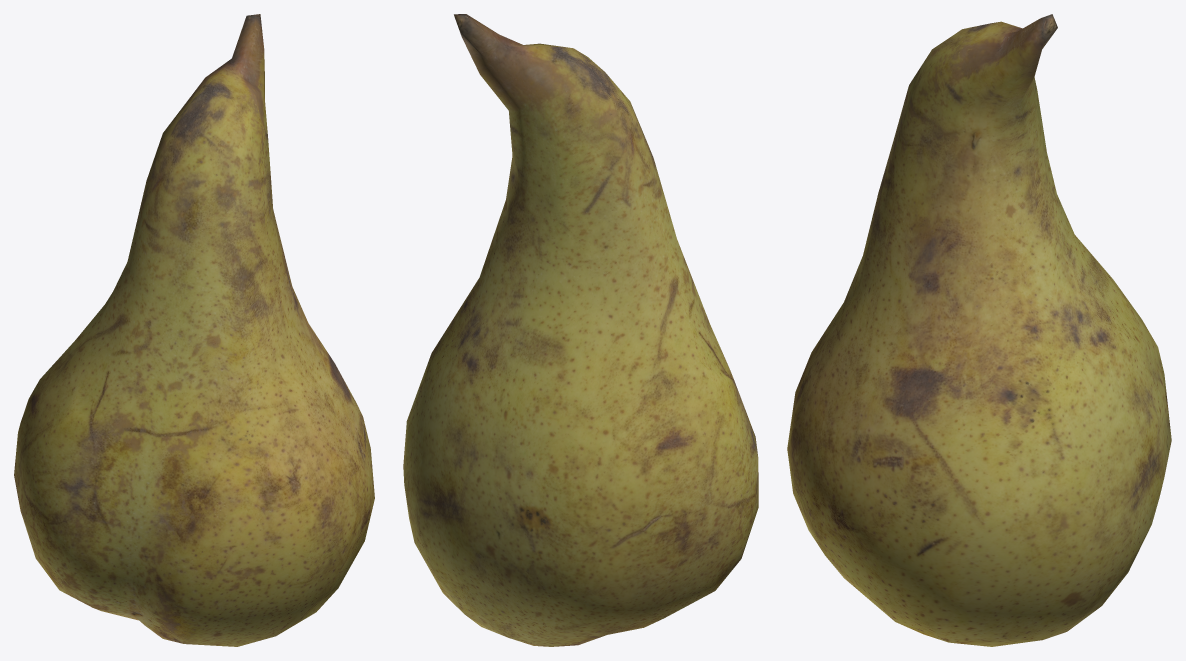
The model's file is 3DPear002_LQ-2K-JPG.obj.
The picture shows the model from 3 angles, left to right: view 1: azimuth 30°, elevation 25°; view 2: azimuth 150°, elevation 25°; view 3: azimuth 270°, elevation 25°; orthographic projection. The views are drawn at different scales.
Parts seen in each view (by area): view 1: 3DPear002_LQ-2K-JPG; view 2: 3DPear002_LQ-2K-JPG; view 3: 3DPear002_LQ-2K-JPG.
Boxes of the visible parts, x1=… form: 3DPear002_LQ-2K-JPG: x1=14, y1=14, x2=374, y2=646; 3DPear002_LQ-2K-JPG: x1=403, y1=14, x2=758, y2=646; 3DPear002_LQ-2K-JPG: x1=787, y1=14, x2=1171, y2=646.
Size of the model in its own units: 0.0708 by 0.127 by 0.0681.
Materials: 1 (1 with a texture image).
